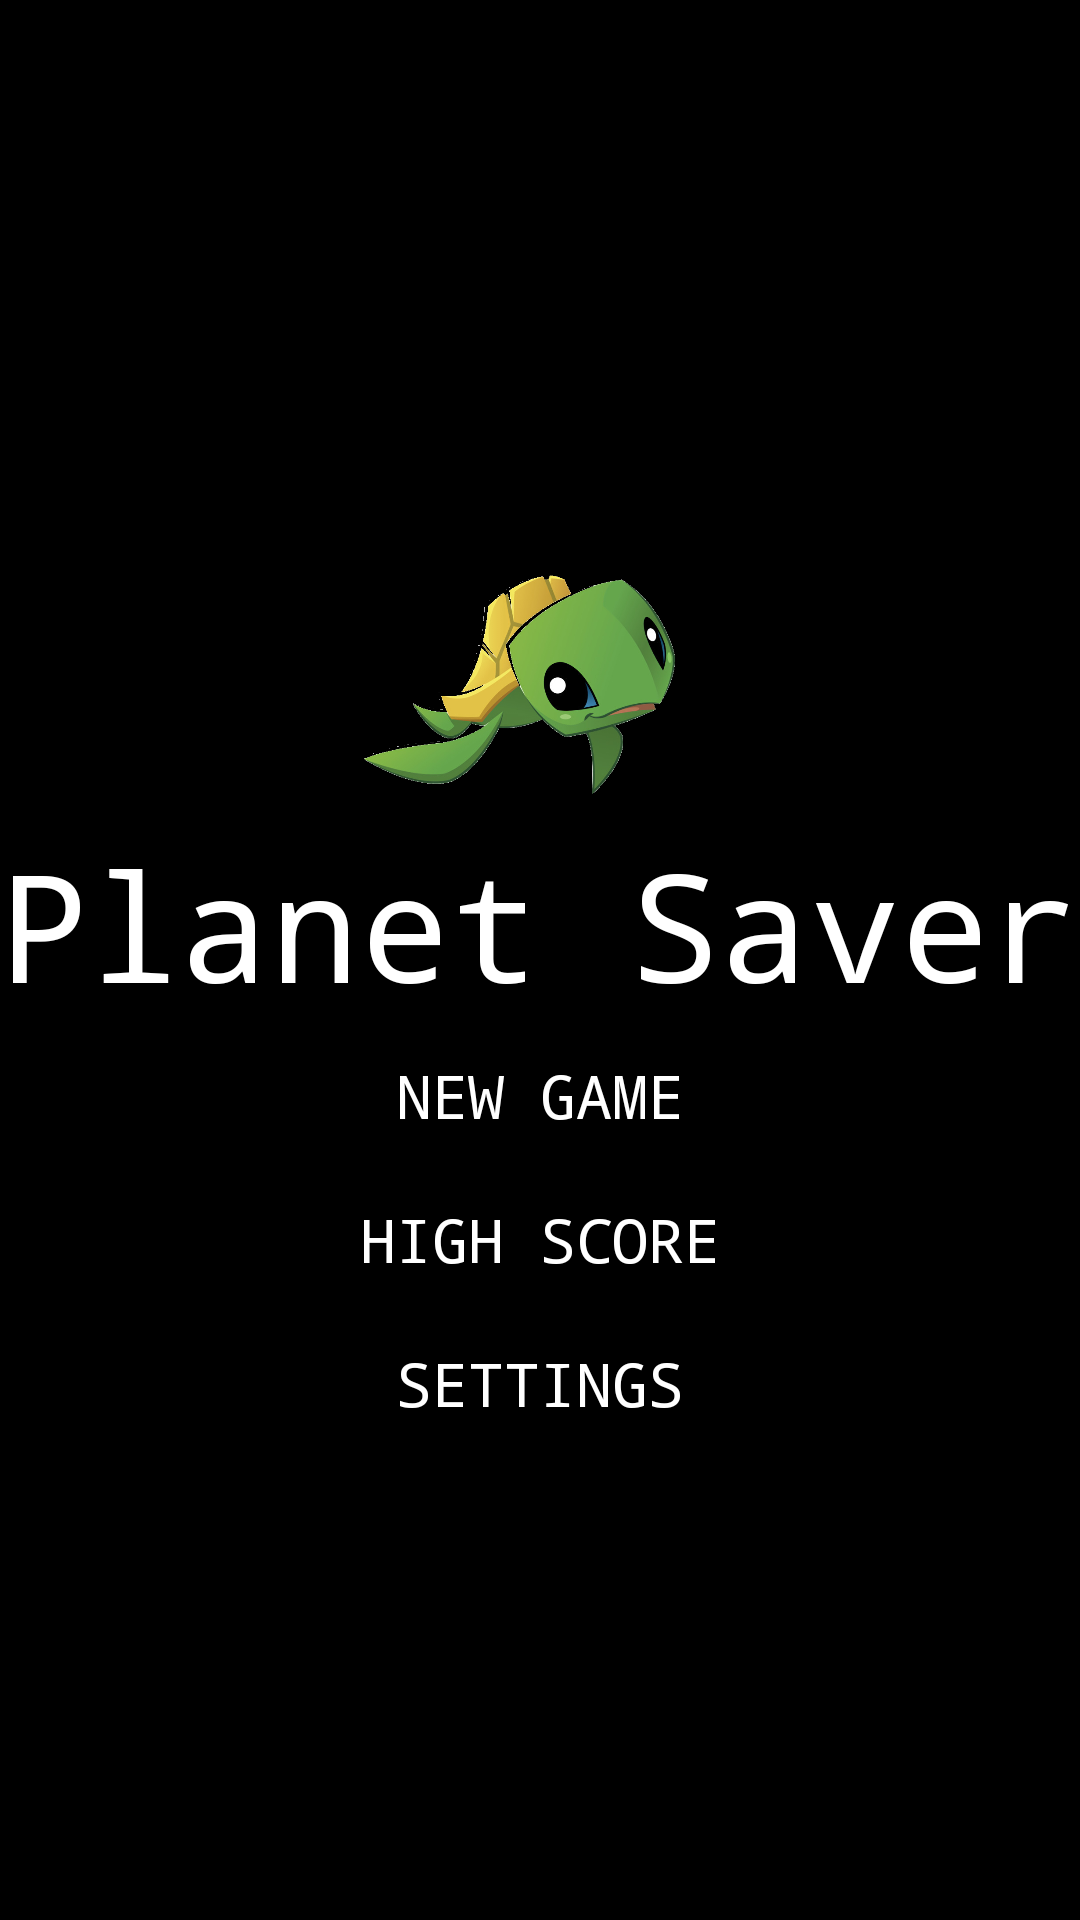

Icon bounding boxes for this 1080w x 1920h phone screenshot, format (left=x1, top=y1, right=x2, bottom=y2):
turtleopenscreen: (left=364, top=575, right=675, bottom=794)
